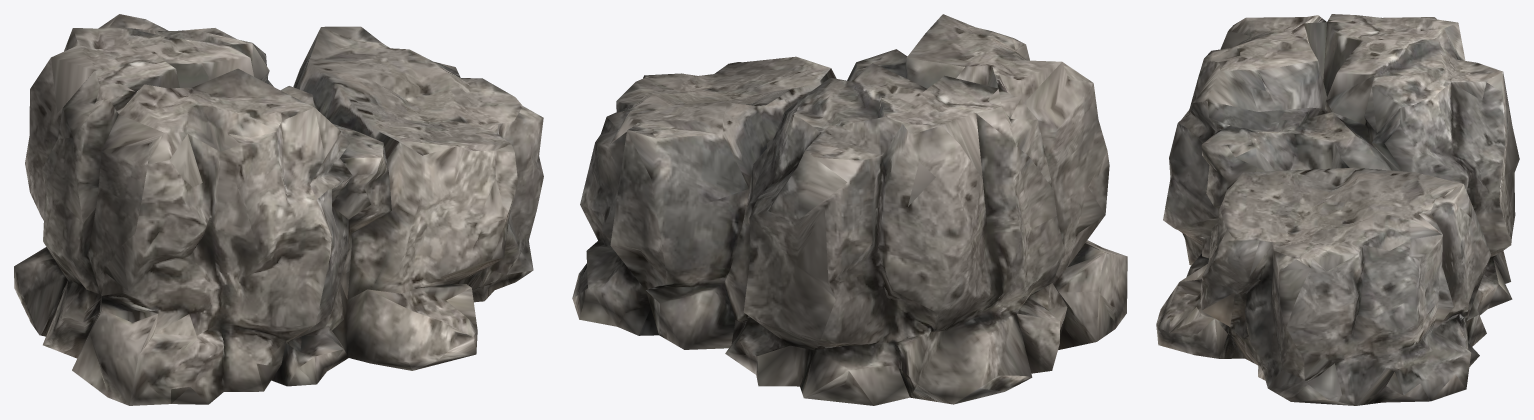
The model's file is outcrop_a_lod2.glb.
3 views of the same model, side by side, from view 1: azimuth 30°, elevation 25°; view 2: azimuth 150°, elevation 25°; view 3: azimuth 270°, elevation 25° (orthographic). The views are drawn at different scales.
Parts seen in each view (by area): view 1: outcrop_a_lod2; view 2: outcrop_a_lod2; view 3: outcrop_a_lod2.
Part boxes in pixels (x1,y1,x2,y2): outcrop_a_lod2: (14, 14, 543, 405); outcrop_a_lod2: (572, 14, 1127, 405); outcrop_a_lod2: (1156, 14, 1519, 405).
Size of the model in its own units: 18.91 by 10.32 by 14.64.
Materials: 1 (1 with a texture image).
